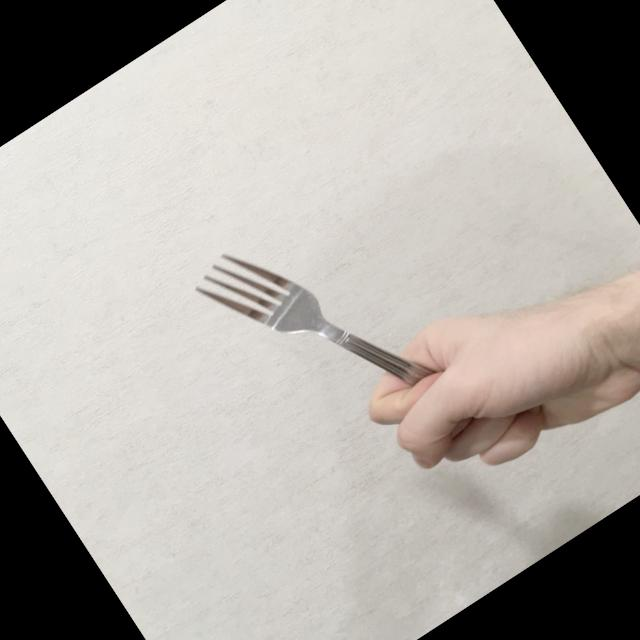fork: (186, 186, 464, 494)
